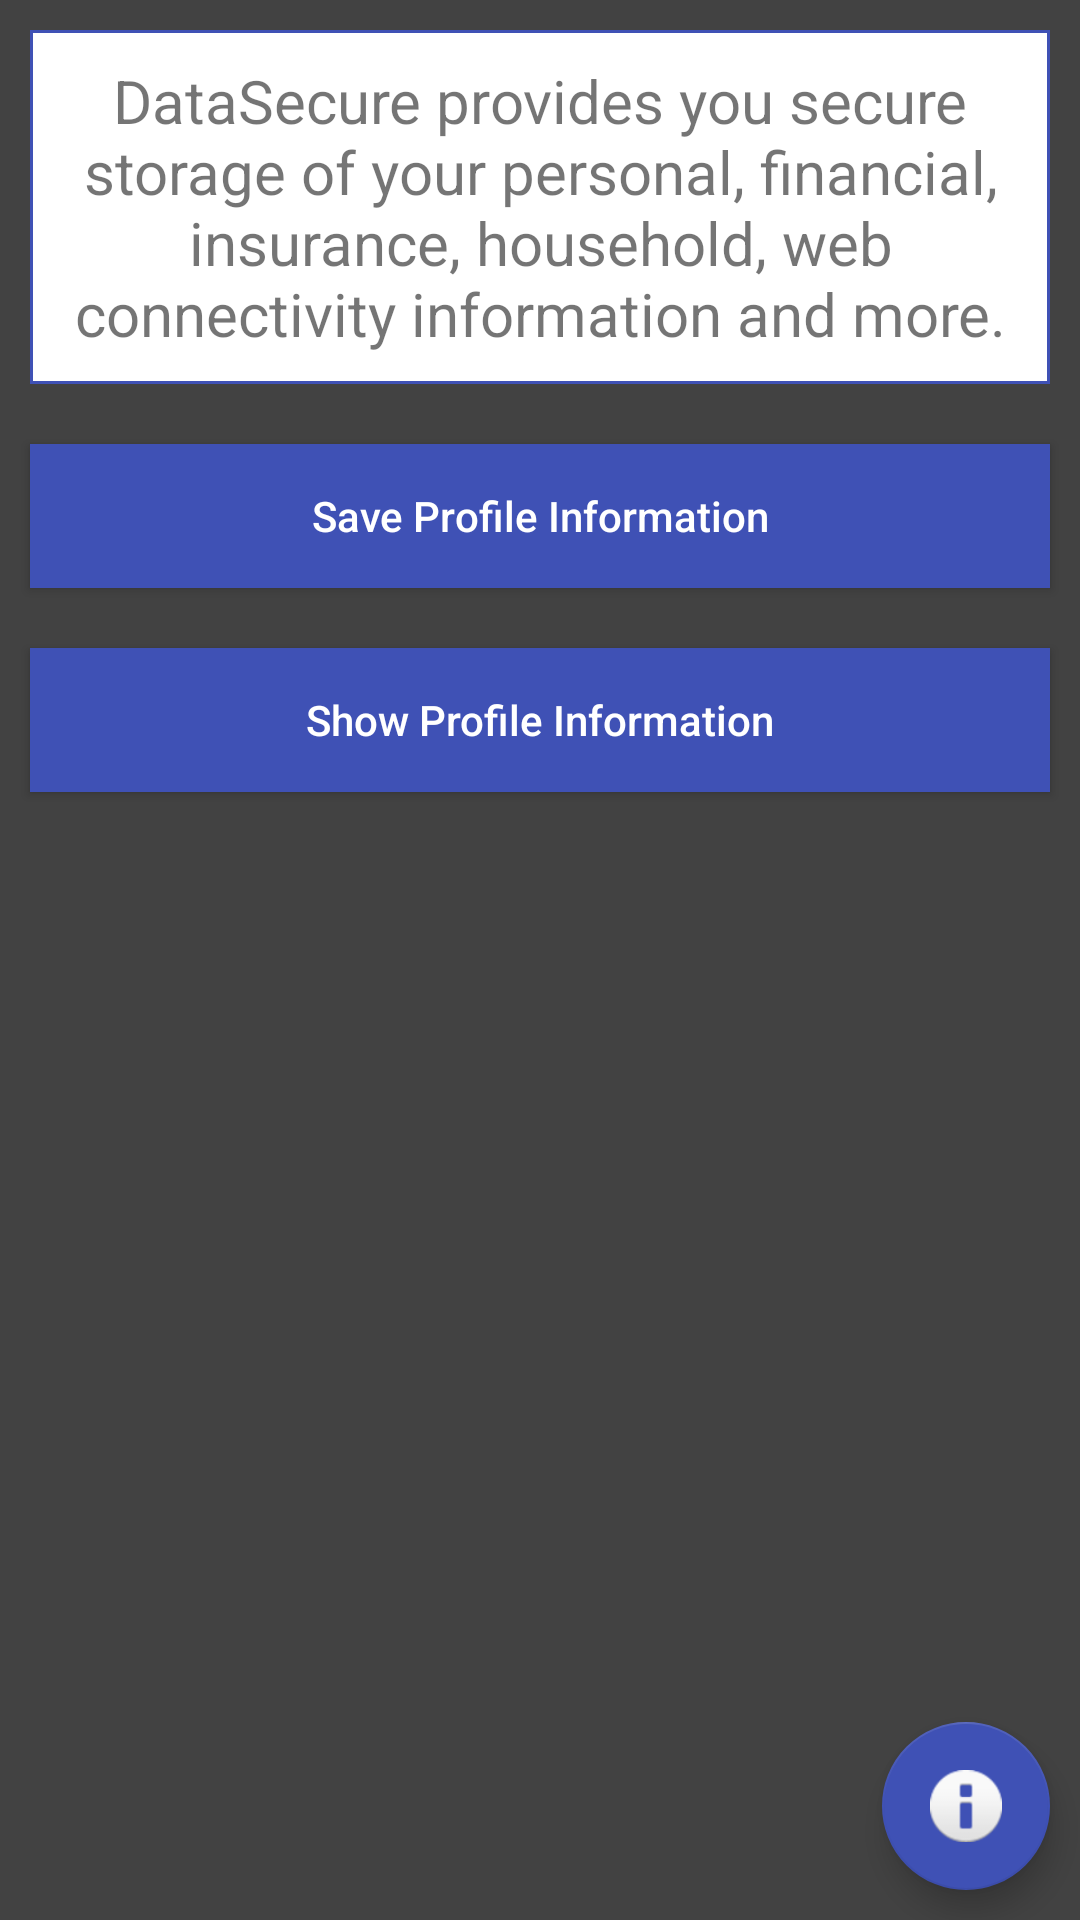

Screen size 1080px×1920px. Icon name, then its box in pixels as box(x1, y1, x2, y2):
info: box(882, 1722, 1050, 1890)
